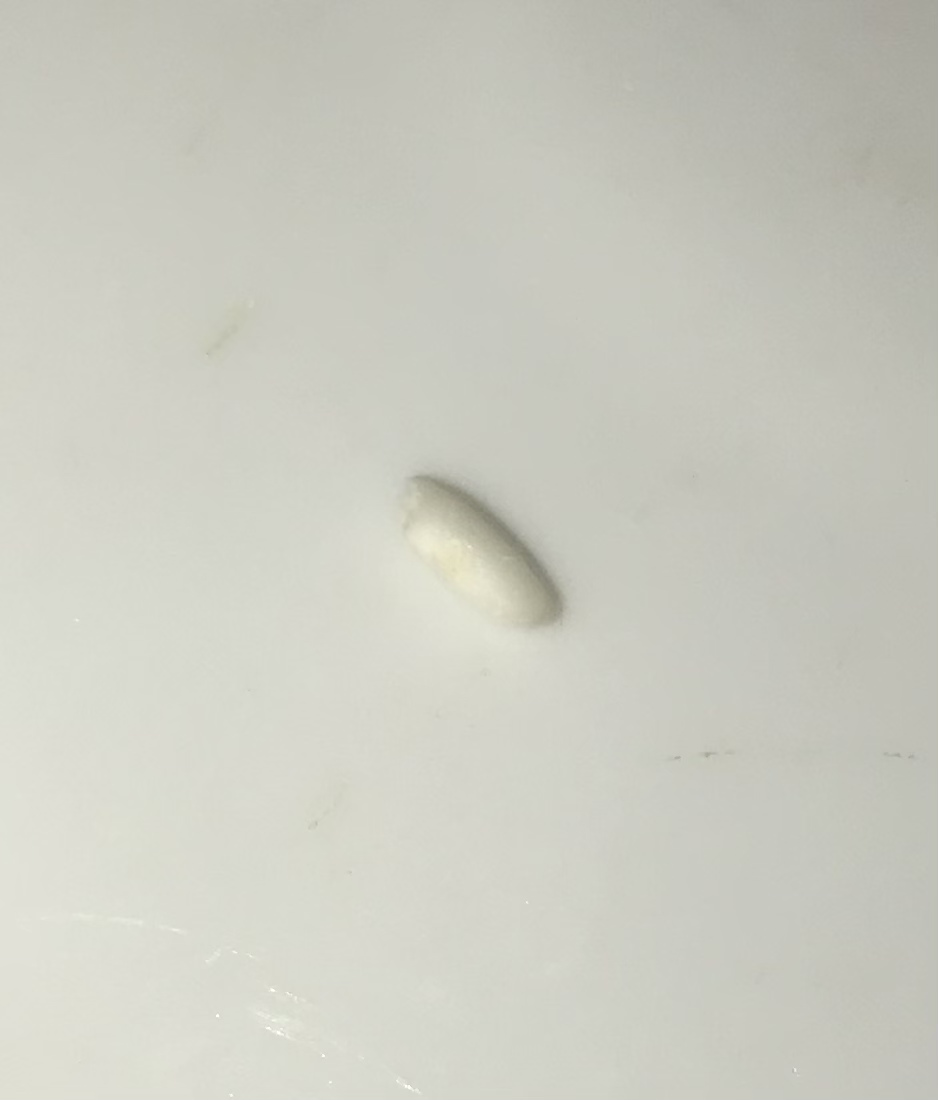Gao Nep Sap: (373, 447, 581, 634)
